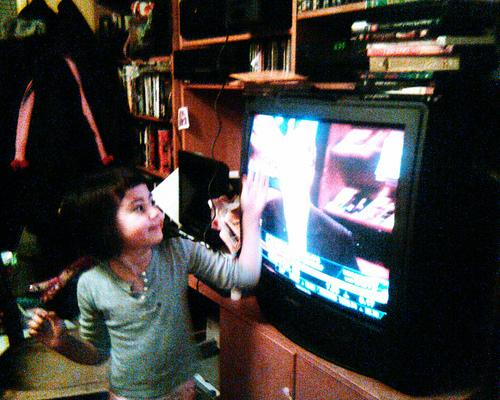person: (26, 165, 271, 398)
